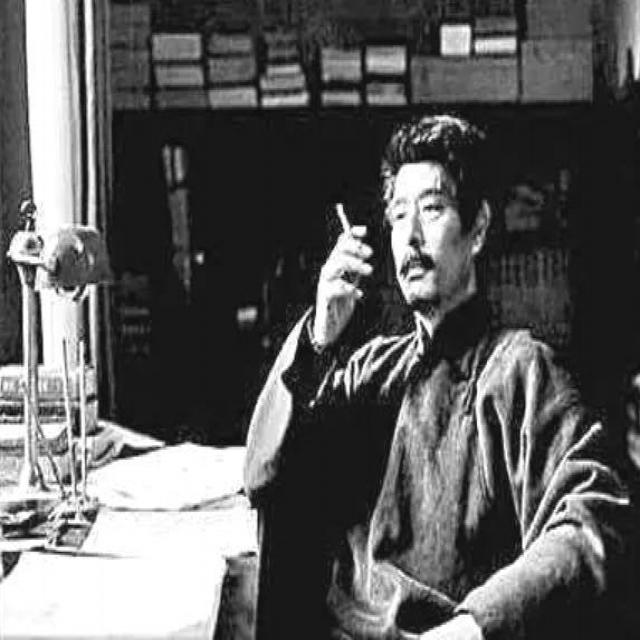smoke: (331, 192, 372, 290)
